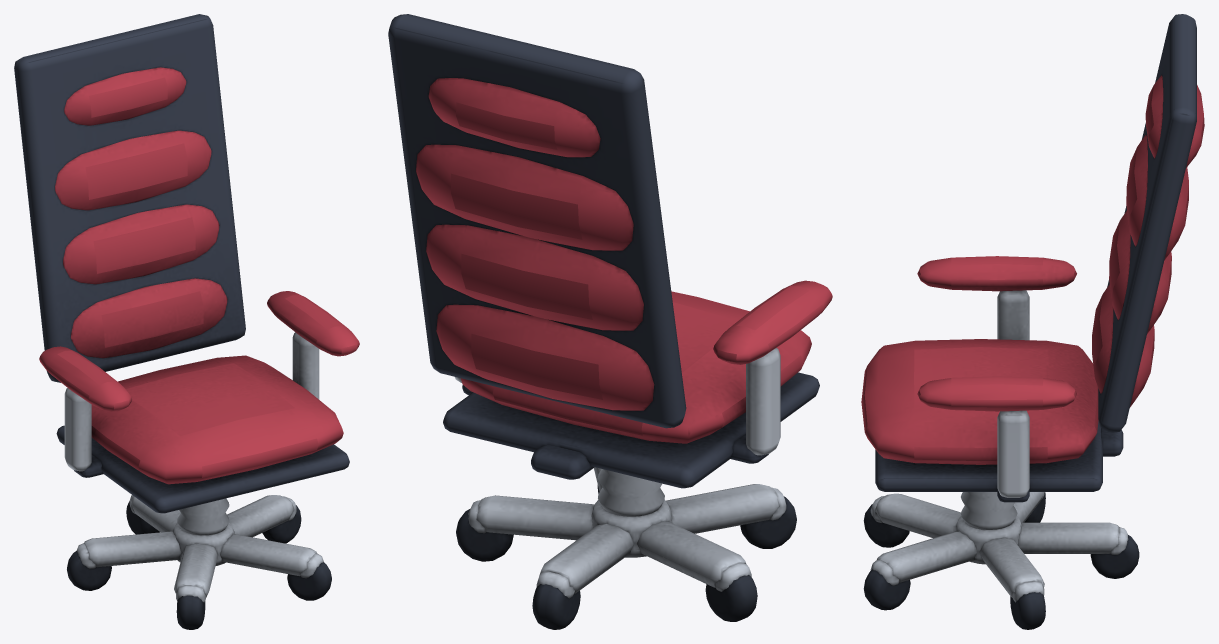
File: manager_chair.glb
3 renders of one model, left to right at view 1: azimuth 30°, elevation 25°; view 2: azimuth 150°, elevation 25°; view 3: azimuth 270°, elevation 25°, orthographic. The views are drawn at different scales.
Parts seen in each view (by area): view 1: manager_chair; view 2: manager_chair; view 3: manager_chair.
Boxes of the visible parts, bbox=[...] form: manager_chair: bbox=[14, 14, 359, 629]; manager_chair: bbox=[388, 14, 832, 629]; manager_chair: bbox=[861, 14, 1204, 629].
Size of the model in its own units: 0.8235 by 1.4 by 0.8446.
Materials: 4 (4 with a texture image).
